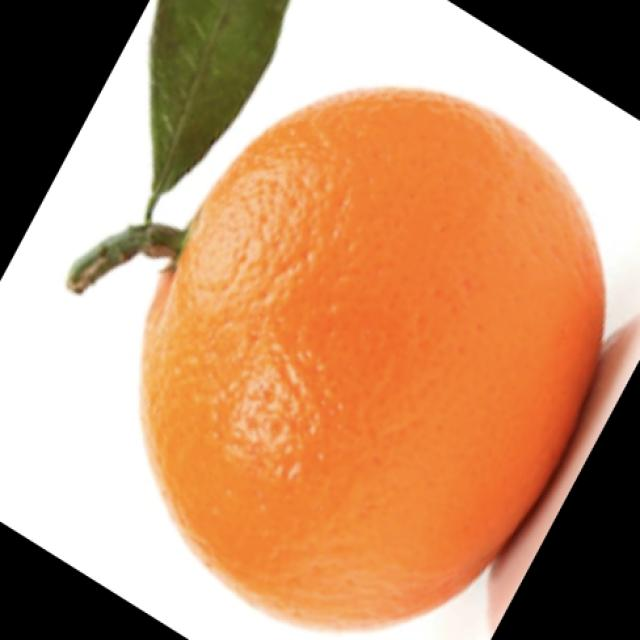matang: (137, 89, 605, 631)
